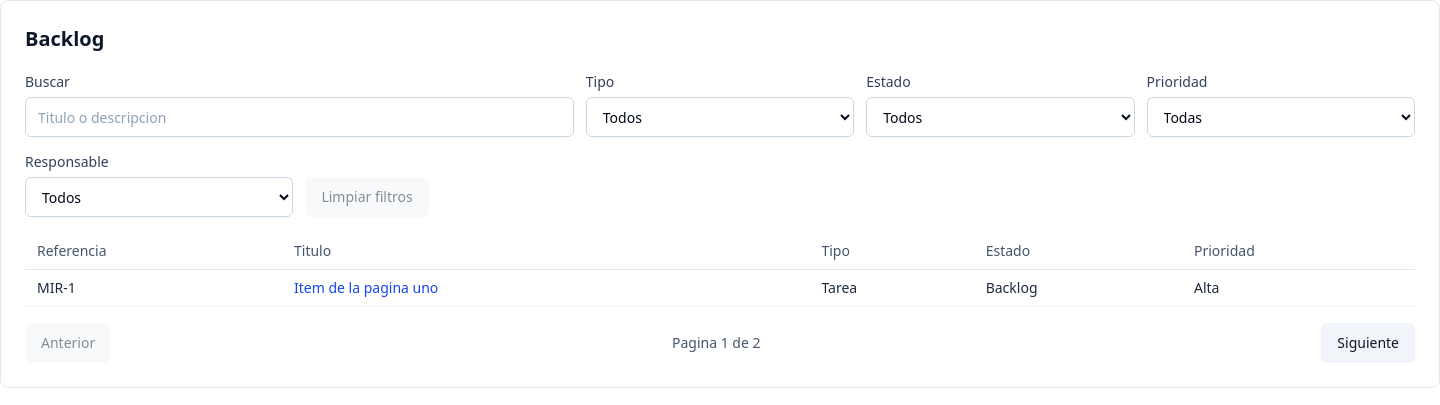
Test: WorkItemBacklog › vuelve a la pagina anterior conservando los controles correctos
Expected: the link "Item de la pagina uno" is shown, [294,278,438,297]
Click the button "Siguiente" at (1368, 343), box [1321,323,1415,363]
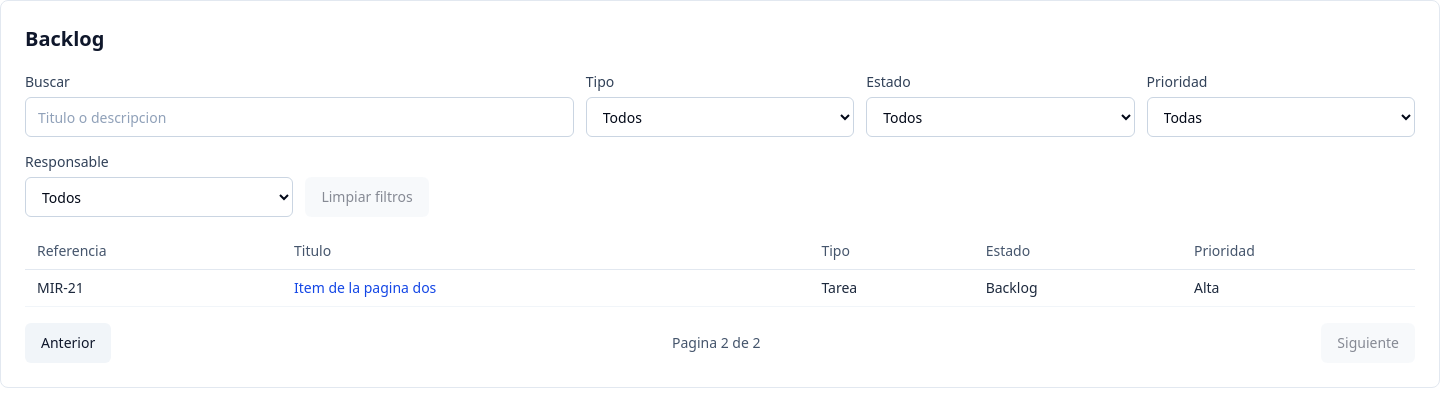
Result: the link "Item de la pagina dos" is shown at [294,278,436,297]
Click the button "Anterior" at (68, 343), box [25,323,111,363]
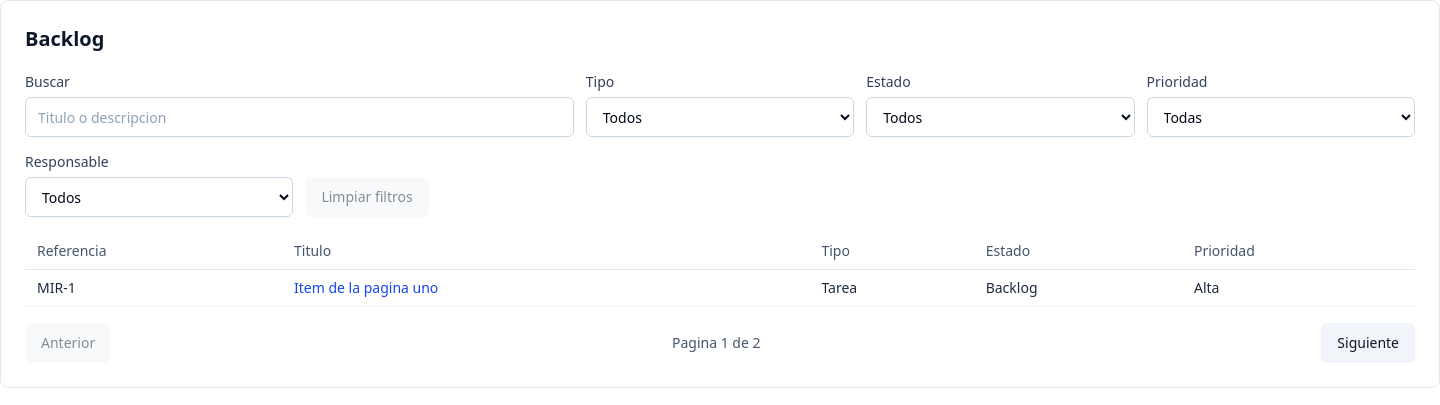
Result: the link "Item de la pagina uno" is shown at [294,278,438,297]
Result: the text "Pagina 1 de 2" is shown at [672,333,760,353]
Result: the button "Anterior" is disabled at [25,323,111,363]
